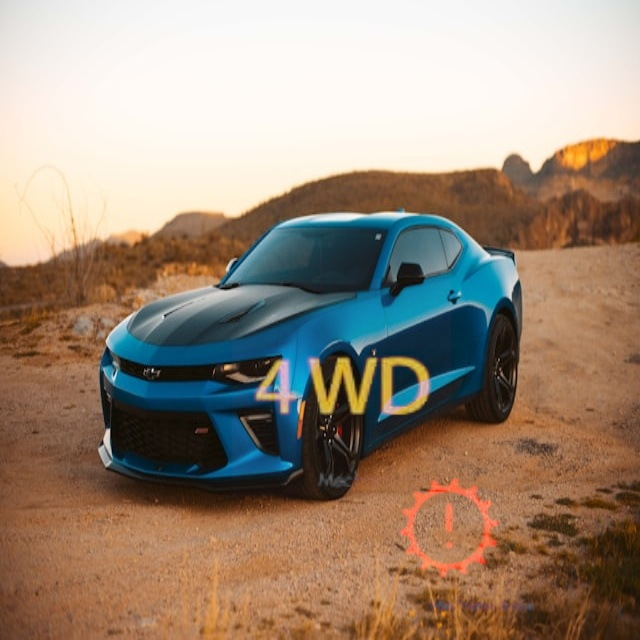symbol: (232, 279, 451, 498), (358, 437, 541, 620)
